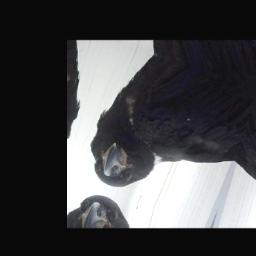Crow: (77, 44, 256, 223)
